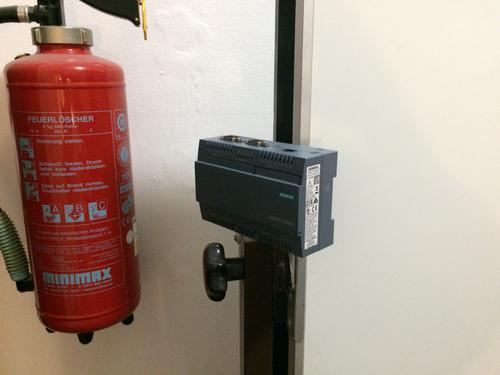iot2000: (194, 135, 340, 260)
